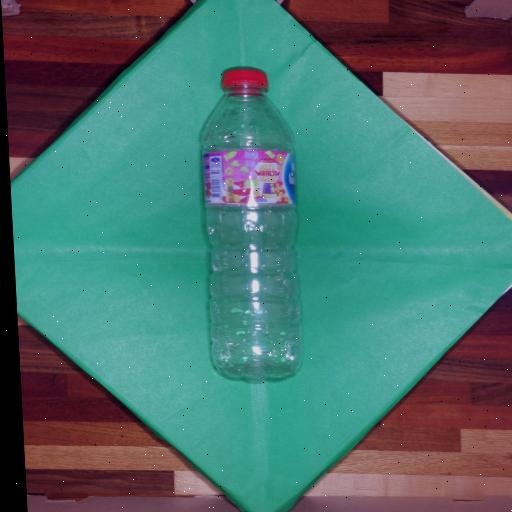bottle: (201, 70, 301, 378)
